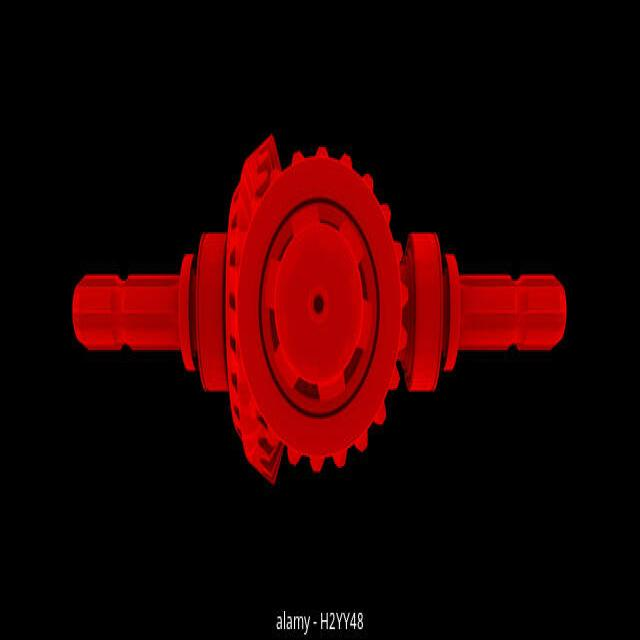Gear: (232, 145, 409, 476), (231, 134, 283, 488)
